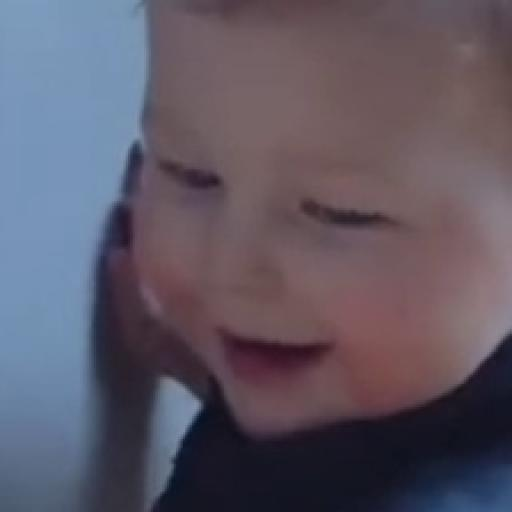Autism: (123, 16, 512, 478)
